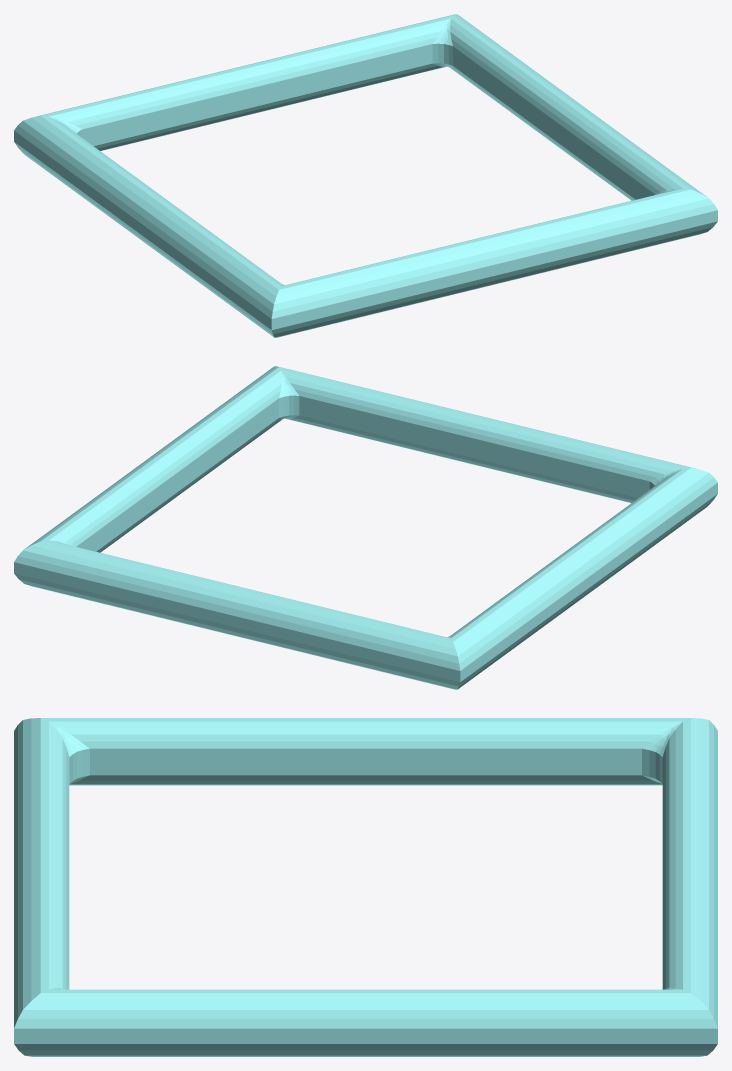
Rendered from Effect.obj.
3 renders of one model, top to bottom at view 1: azimuth 30°, elevation 25°; view 2: azimuth 150°, elevation 25°; view 3: azimuth 270°, elevation 25°, orthographic. The views are drawn at different scales.
Parts seen in each view (by area): view 1: Cube; view 2: Cube; view 3: Cube.
Boxes of the visible parts, bbox=[...] form: Cube: bbox=[14, 14, 717, 337]; Cube: bbox=[14, 366, 717, 689]; Cube: bbox=[14, 718, 717, 1056].
Size of the model in its own units: 2 by 0.2 by 2.
